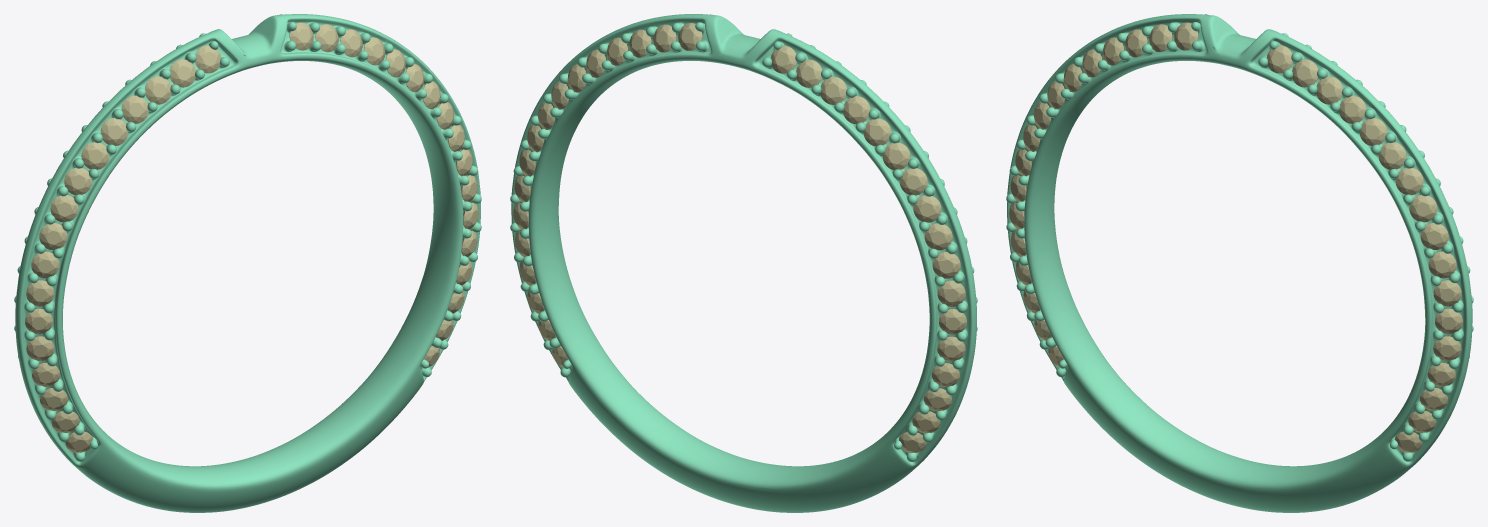
3 views of the same model, side by side, from view 1: azimuth 30°, elevation 25°; view 2: azimuth 150°, elevation 25°; view 3: azimuth 330°, elevation 25° (orthographic).
Visible parts, largest first — view 1: Metal02, Diamond_Gem.061, Diamond_Gem.060, Diamond_Gem.062, Diamond_Gem.063, Diamond_Gem.064, Diamond_Gem.059, Diamond_Gem.065, Diamond_Gem.058, Diamond_Gem.066, Diamond_Gem.057, Diamond_Gem.067 (+3 smaller); view 2: Metal02, Diamond_Gem.039, Diamond_Gem.041, Diamond_Gem.040, Diamond_Gem.038, Diamond_Gem.037, Diamond_Gem.036, Diamond_Gem.042, Diamond_Gem.043, Diamond_Gem.035, Diamond_Gem.044, Diamond_Gem.034 (+3 smaller); view 3: Metal02, Diamond_Gem.006, Diamond_Gem.005, Diamond_Gem.007, Diamond_Gem.004, Diamond_Gem.003, Diamond_Gem.002, Diamond_Gem.008, Diamond_Gem.009, Diamond_Gem.001, Diamond_Gem.010, Diamond_Gem (+3 smaller).
Part boxes in pixels (<box>): Metal02: <box>14,14,481,512</box>; Diamond_Gem.061: <box>64,168,92,195</box>; Diamond_Gem.060: <box>50,195,78,222</box>; Diamond_Gem.062: <box>81,142,109,169</box>; Diamond_Gem.063: <box>100,118,128,145</box>; Diamond_Gem.064: <box>121,95,148,123</box>; Diamond_Gem.059: <box>39,223,67,250</box>; Diamond_Gem.065: <box>145,76,171,104</box>; Diamond_Gem.058: <box>31,251,59,278</box>; Diamond_Gem.066: <box>169,59,195,87</box>; Diamond_Gem.057: <box>26,280,54,306</box>; Diamond_Gem.067: <box>195,45,221,73</box>; Metal02: <box>510,14,977,512</box>; Diamond_Gem.039: <box>882,142,910,170</box>; Diamond_Gem.041: <box>913,195,941,222</box>; Diamond_Gem.040: <box>899,168,927,195</box>; Diamond_Gem.038: <box>863,118,891,146</box>; Diamond_Gem.037: <box>843,96,870,124</box>; Diamond_Gem.036: <box>820,76,846,104</box>; Diamond_Gem.042: <box>924,223,952,250</box>; Diamond_Gem.043: <box>932,252,960,278</box>; Diamond_Gem.035: <box>796,59,822,87</box>; Diamond_Gem.044: <box>937,280,965,306</box>; Diamond_Gem.034: <box>770,45,796,73</box>; Metal02: <box>1006,14,1473,512</box>; Diamond_Gem.006: <box>1395,167,1423,195</box>; Diamond_Gem.005: <box>1378,142,1406,169</box>; Diamond_Gem.007: <box>1409,195,1437,222</box>; Diamond_Gem.004: <box>1359,118,1387,145</box>; Diamond_Gem.003: <box>1339,95,1366,123</box>; Diamond_Gem.002: <box>1316,76,1342,104</box>; Diamond_Gem.008: <box>1420,223,1448,249</box>; Diamond_Gem.009: <box>1428,251,1456,278</box>; Diamond_Gem.001: <box>1292,59,1318,87</box>; Diamond_Gem.010: <box>1433,280,1461,306</box>; Diamond_Gem: <box>1266,45,1292,73</box>.
Bounding box in the file's own units: 20.92 × 20.82 × 2.13.
